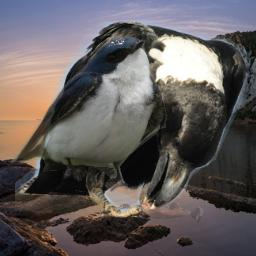Crow: (15, 16, 250, 224)
Swallow: (11, 36, 168, 193)
